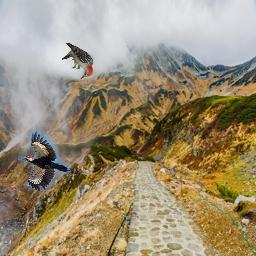Woodpecker: (19, 131, 72, 192), (62, 43, 94, 79)
